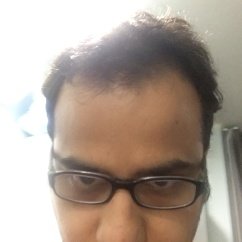glasses: (45, 163, 208, 208)
